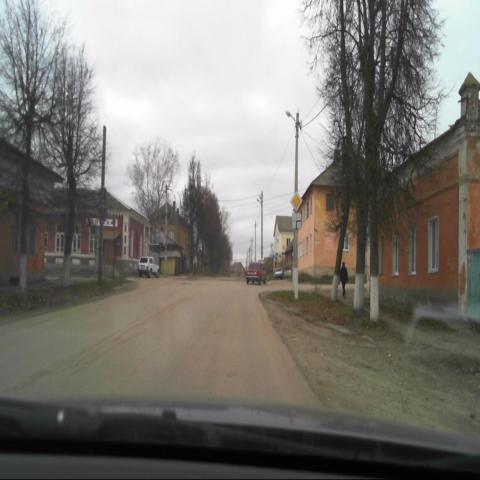2_1: (291, 192, 302, 211)
8_13: (292, 212, 302, 228)
